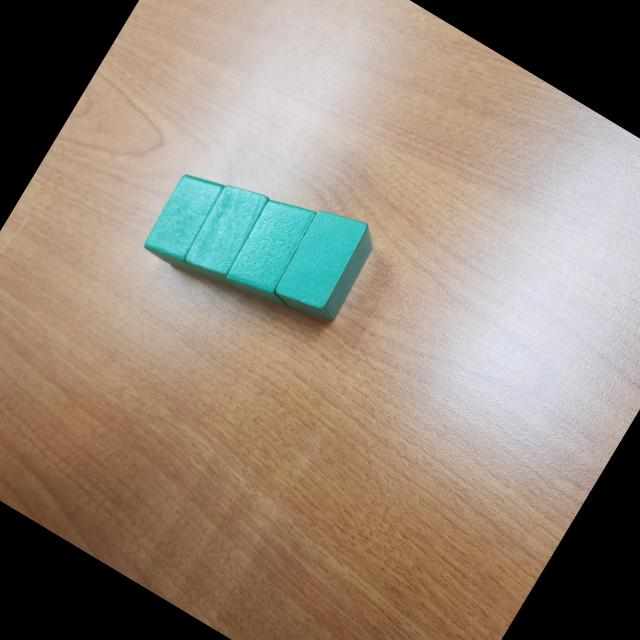green: (266, 198, 386, 332), (220, 188, 336, 317), (178, 173, 284, 294), (138, 163, 245, 281)
